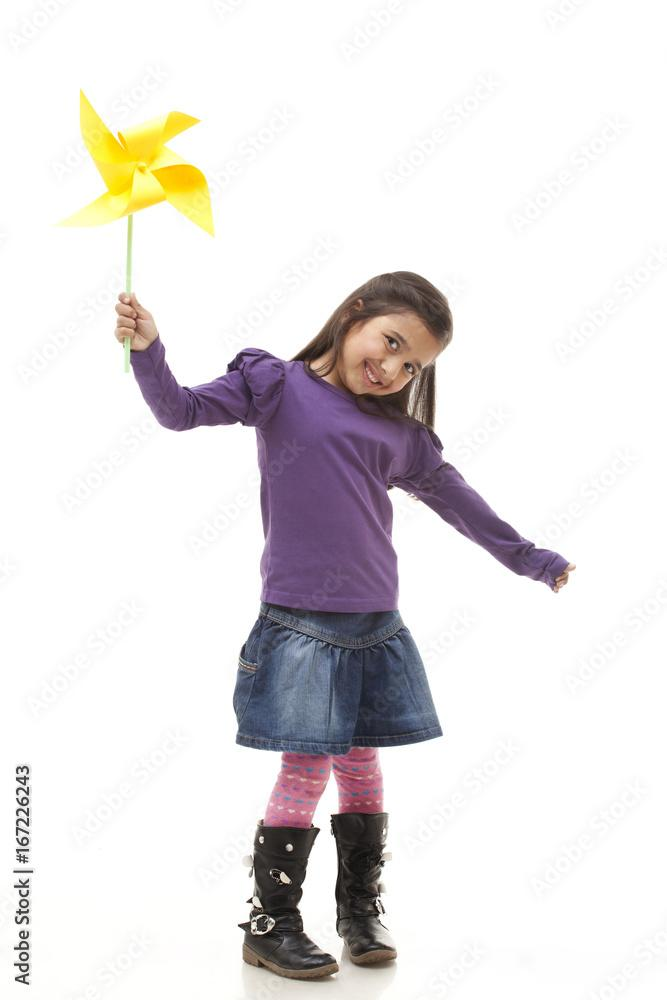Human: (118, 228, 557, 1000)
